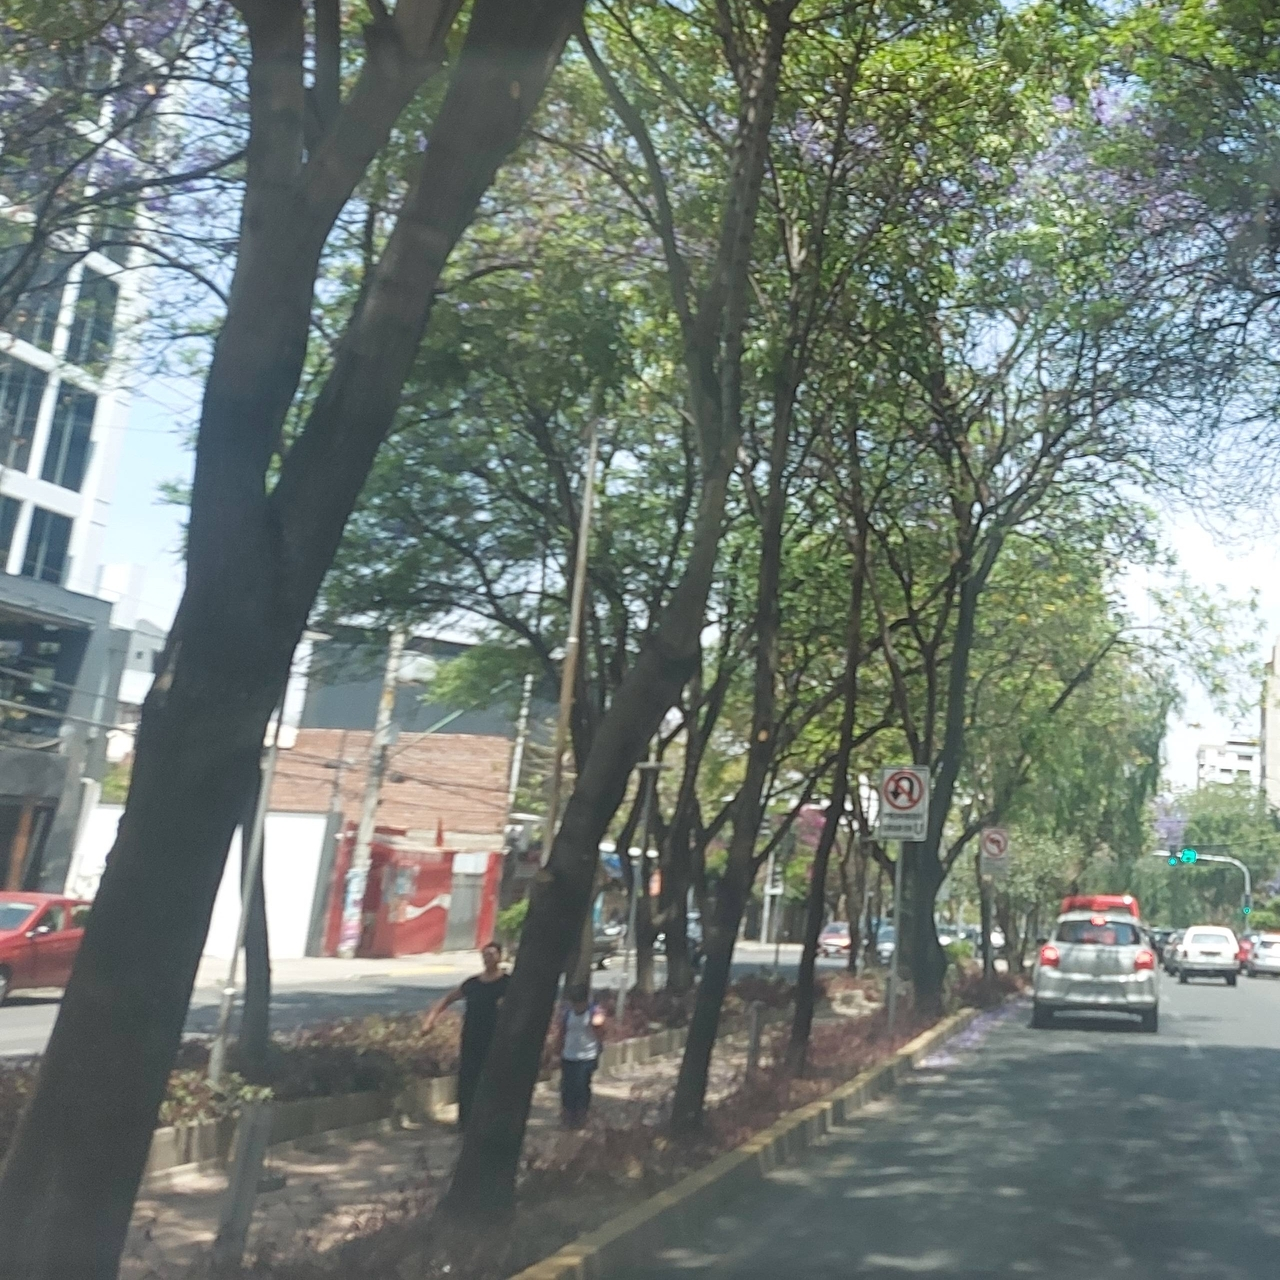prohibido-girar-izquierda: (978, 828, 1009, 874)
prohibido-girar-u: (876, 765, 933, 844)
